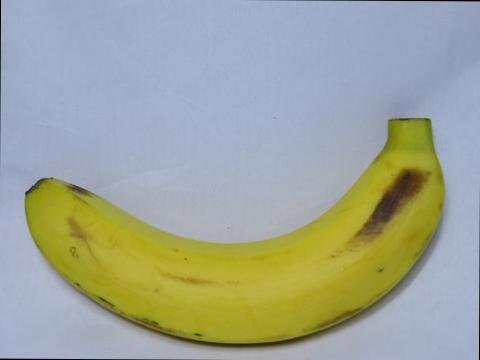freshripe: (12, 107, 454, 359)
